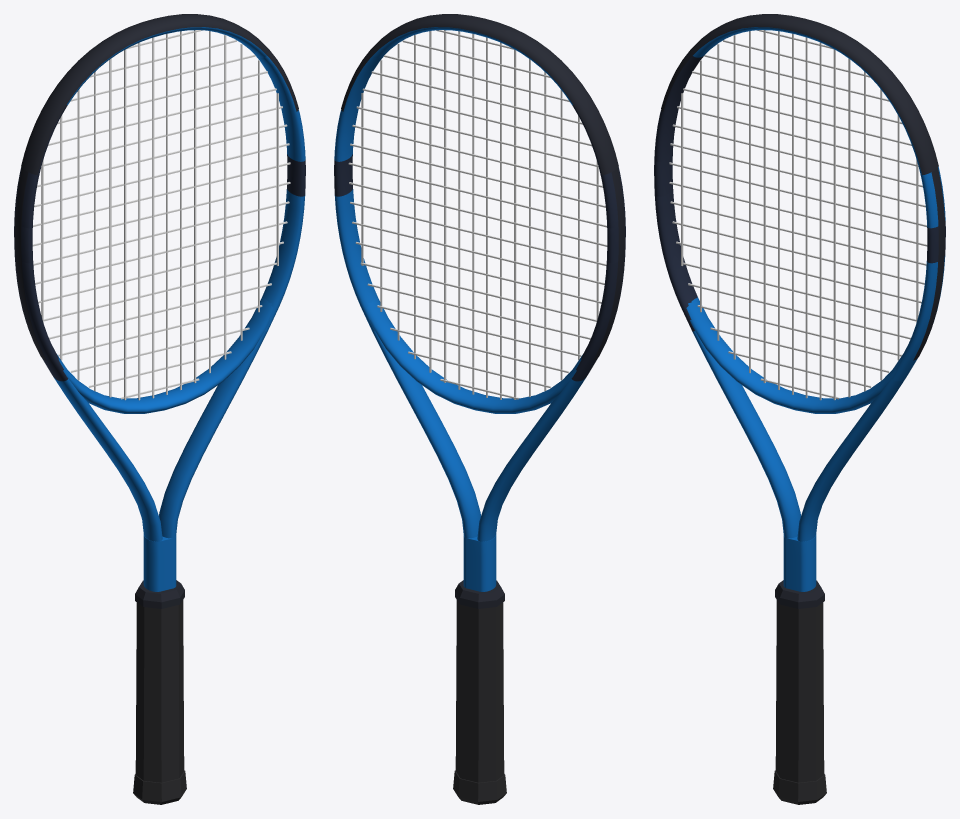
File: dunlop-fx-500-tour-2023.glb
The picture shows the model from 3 angles, left to right: view 1: azimuth 30°, elevation 25°; view 2: azimuth 150°, elevation 25°; view 3: azimuth 330°, elevation 25°; orthographic projection.
Visible parts, largest first — view 1: frame, strings_mains, strings_crosses, grip, bumper, grommets, butt_cap, collar; view 2: frame, strings_mains, strings_crosses, grip, bumper, grommets, butt_cap, collar; view 3: frame, strings_mains, strings_crosses, grip, bumper, grommets, butt_cap, collar.
Boxes of the visible parts, <box> form: frame: <box>14,27,305,591</box>; strings_mains: <box>41,30,278,400</box>; strings_crosses: <box>32,30,290,399</box>; grip: <box>135,600,184,782</box>; bumper: <box>21,14,298,175</box>; grommets: <box>14,168,46,360</box>; butt_cap: <box>133,770,186,804</box>; collar: <box>135,580,184,608</box>; frame: <box>334,27,625,591</box>; strings_mains: <box>361,30,598,399</box>; strings_crosses: <box>348,30,607,399</box>; grip: <box>455,600,504,782</box>; bumper: <box>341,14,618,175</box>; grommets: <box>593,168,625,360</box>; butt_cap: <box>453,770,506,804</box>; collar: <box>455,580,504,608</box>; frame: <box>654,27,945,591</box>; strings_mains: <box>681,30,918,400</box>; strings_crosses: <box>669,30,927,399</box>; grip: <box>775,600,824,782</box>; bumper: <box>661,14,938,175</box>; grommets: <box>913,168,945,360</box>; butt_cap: <box>773,770,826,804</box>; collar: <box>775,580,824,608</box>.
Bounding box in the file's own units: 0.2644 × 0.6861 × 0.0377.
